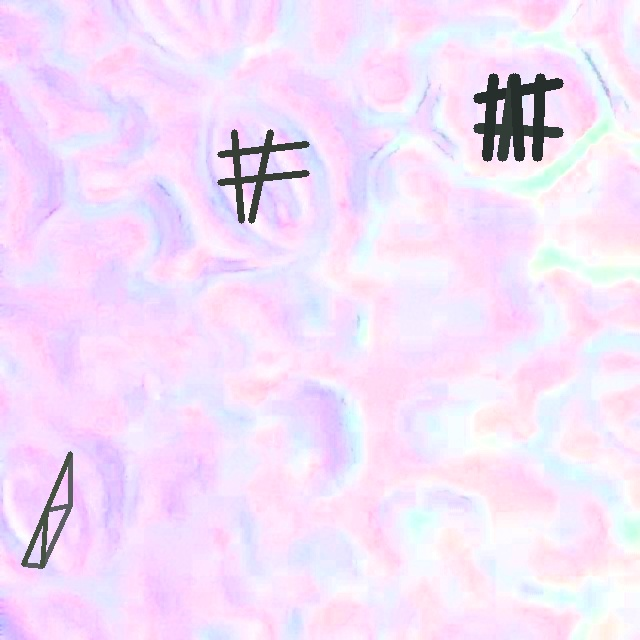close: (474, 73, 563, 160), (21, 451, 72, 568)
open: (218, 130, 309, 222)
